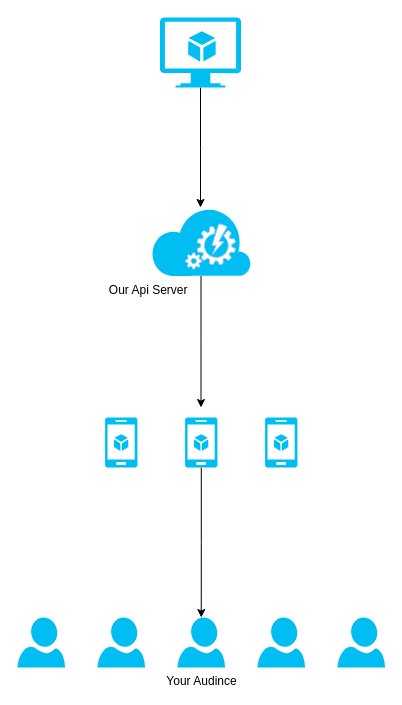
Image size: 402x705. Some labels were removed from this diagram. Each missing label, with the centre of its shape:
Your Application: the point at 200,52
Your Mobile: the point at 200,442
